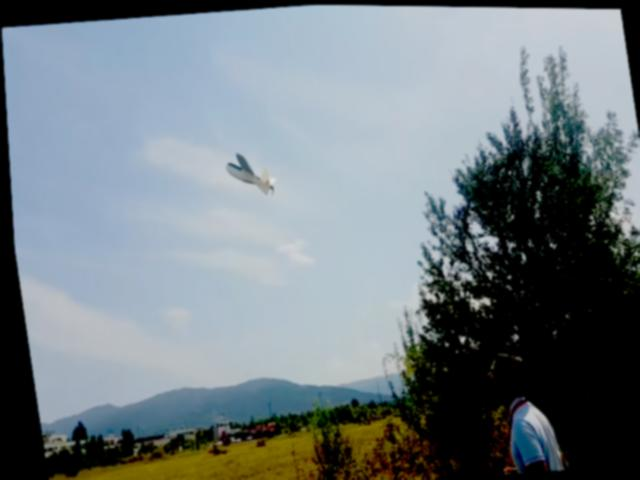plane: (220, 148, 275, 203)
